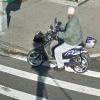Crosswalk: (2, 56, 99, 100)
